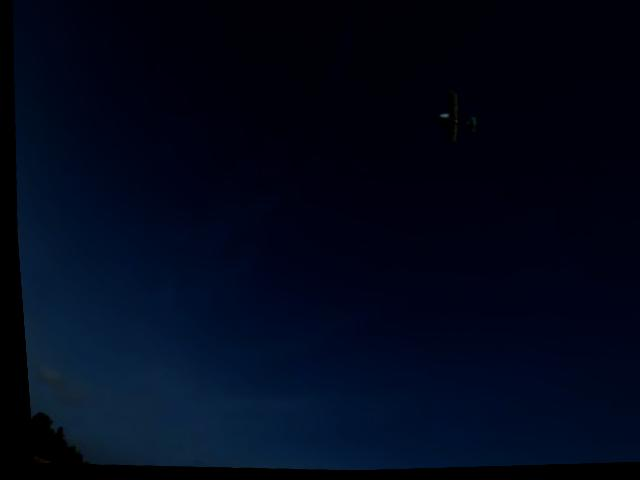uav: (426, 84, 483, 153)
